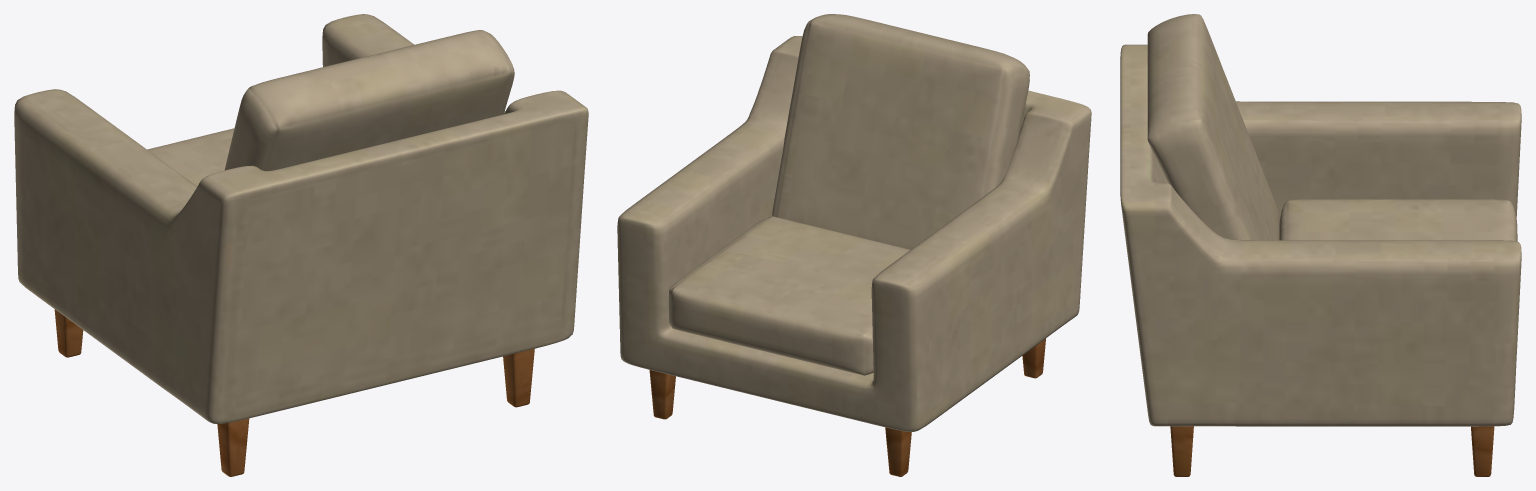
The model's file is Chair12.glb.
The picture shows the model from 3 angles, left to right: view 1: azimuth 30°, elevation 25°; view 2: azimuth 150°, elevation 25°; view 3: azimuth 270°, elevation 25°; orthographic projection. The views are drawn at different scales.
Parts seen in each view (by area): view 1: Chair12_model; view 2: Chair12_model; view 3: Chair12_model.
Boxes of the visible parts, x1,y1,x2,y2 form: Chair12_model: (14, 14, 588, 476); Chair12_model: (617, 14, 1091, 476); Chair12_model: (1120, 14, 1521, 476).
Bounding box in the file's own units: 1.66 × 1.64 × 1.71.
Materials: 1 (1 with a texture image).
